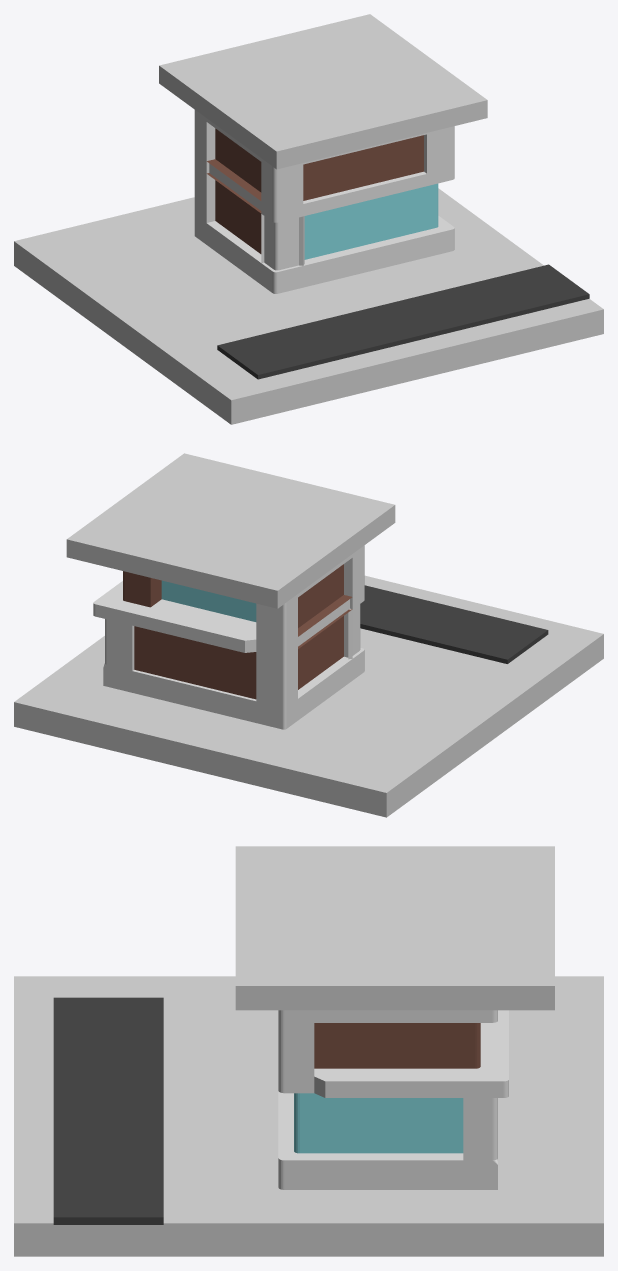
Rendered from bugatti.glb.
The picture shows the model from 3 angles, top to bottom: view 1: azimuth 30°, elevation 25°; view 2: azimuth 150°, elevation 25°; view 3: azimuth 270°, elevation 25°; orthographic projection. The views are drawn at different scales.
Visible parts, largest first — view 1: Cubo.003, Cubo.004, Cubo.005, Cubo.006; view 2: Cubo.003, Cubo.004, Cubo.005, Cubo.006; view 3: Cubo.003, Cubo.005, Cubo.004, Cubo.006.
Boxes of the visible parts, left/top/right/bottom form: Cubo.003: left=14, top=188, right=603, bottom=424; Cubo.004: left=194, top=110, right=454, bottom=293; Cubo.005: left=159, top=14, right=487, bottom=169; Cubo.006: left=217, top=264, right=589, bottom=379; Cubo.003: left=14, top=575, right=603, bottom=817; Cubo.004: left=93, top=545, right=364, bottom=729; Cubo.005: left=66, top=453, right=395, bottom=608; Cubo.006: left=360, top=585, right=548, bottom=663; Cubo.003: left=14, top=976, right=603, bottom=1256; Cubo.005: left=235, top=846, right=554, bottom=1010; Cubo.004: left=278, top=1010, right=508, bottom=1189; Cubo.006: left=53, top=997, right=163, bottom=1224.
Bounding box in the file's own units: 4.69 × 2.19 × 4.74.
